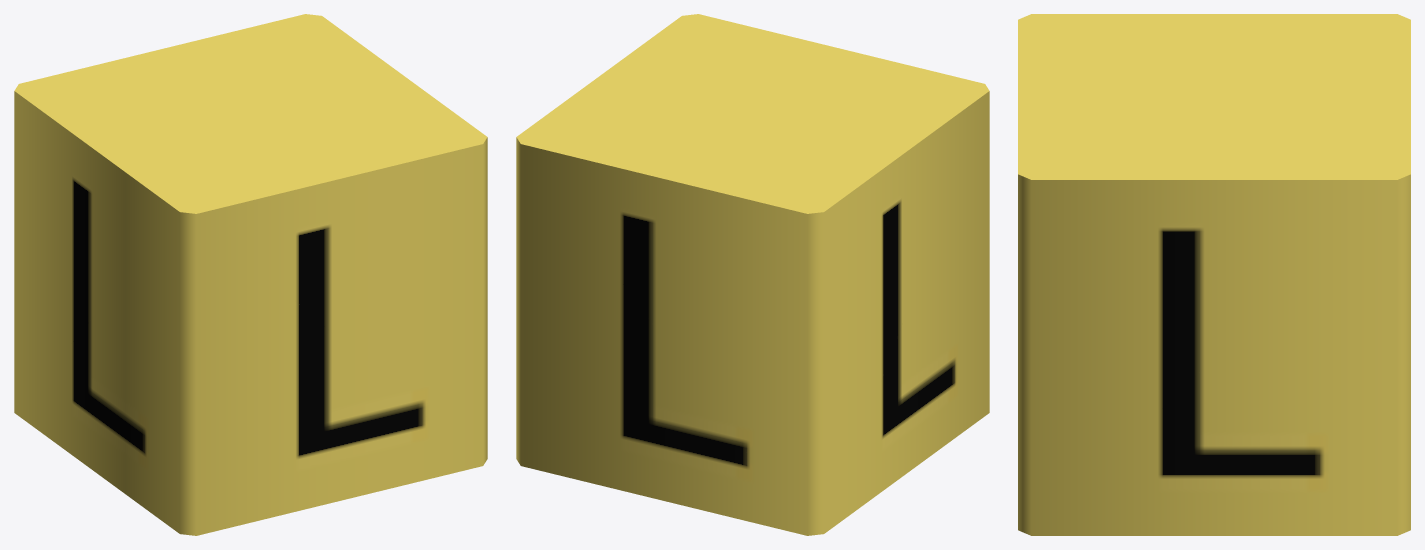
The model's file is blockL.dae.
3 views of the same model, side by side, from view 1: azimuth 30°, elevation 25°; view 2: azimuth 150°, elevation 25°; view 3: azimuth 270°, elevation 25° (orthographic). The views are drawn at different scales.
Visible parts, largest first — view 1: pCube12; view 2: pCube12; view 3: pCube12.
Boxes of the visible parts, x1,y1,x2,y2 form: pCube12: (14, 14, 487, 535); pCube12: (516, 14, 989, 535); pCube12: (1018, 14, 1410, 535).
Size of the model in its own units: 0.4263 by 0.4263 by 0.4263.
1 material, 1 textured.
